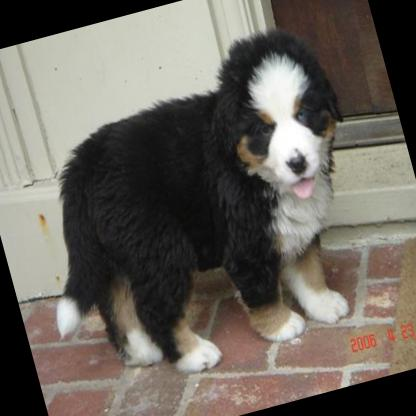Bernese_mountain_dog: (0, 13, 399, 408)
